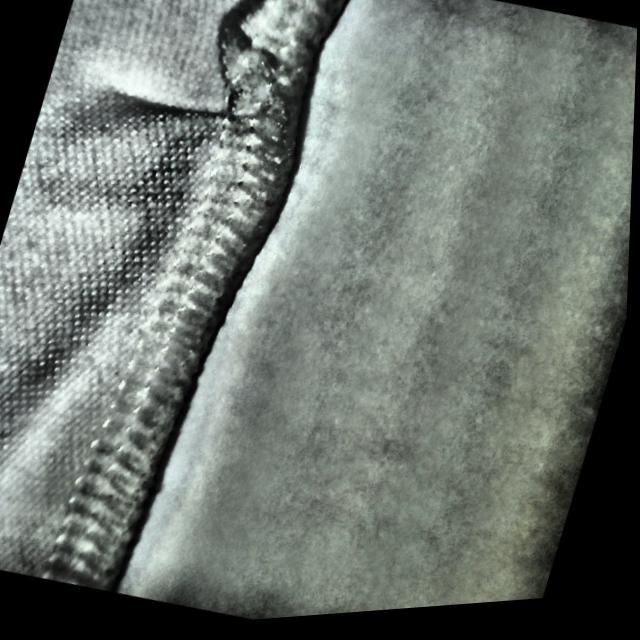seam: (104, 0, 351, 191)
